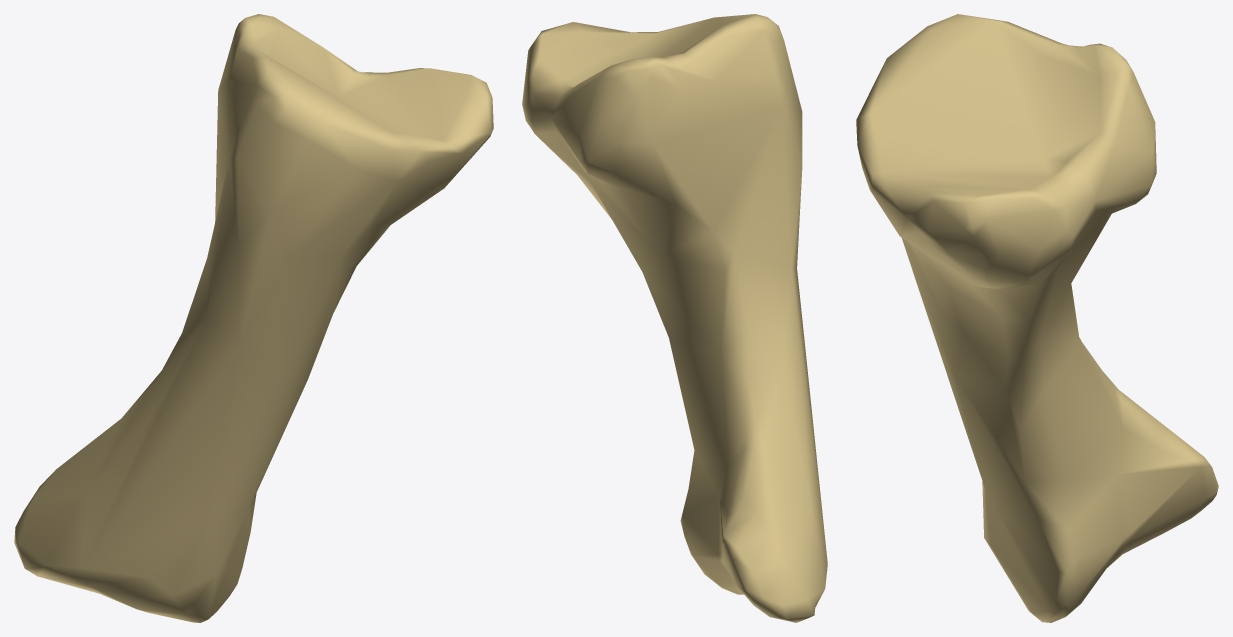
The picture shows the model from 3 angles, left to right: view 1: azimuth 30°, elevation 25°; view 2: azimuth 150°, elevation 25°; view 3: azimuth 270°, elevation 25°; orthographic projection. The views are drawn at different scales.
Visible parts, largest first — view 1: 右侧第四趾近节趾骨; view 2: 右侧第四趾近节趾骨; view 3: 右侧第四趾近节趾骨.
Boxes of the visible parts, box(x1,y1,x2,y2) form: 右侧第四趾近节趾骨: box(14, 14, 493, 622); 右侧第四趾近节趾骨: box(522, 14, 827, 622); 右侧第四趾近节趾骨: box(856, 14, 1218, 622).
Size of the model in its own units: 0.0267 by 0.0383 by 0.0203.
